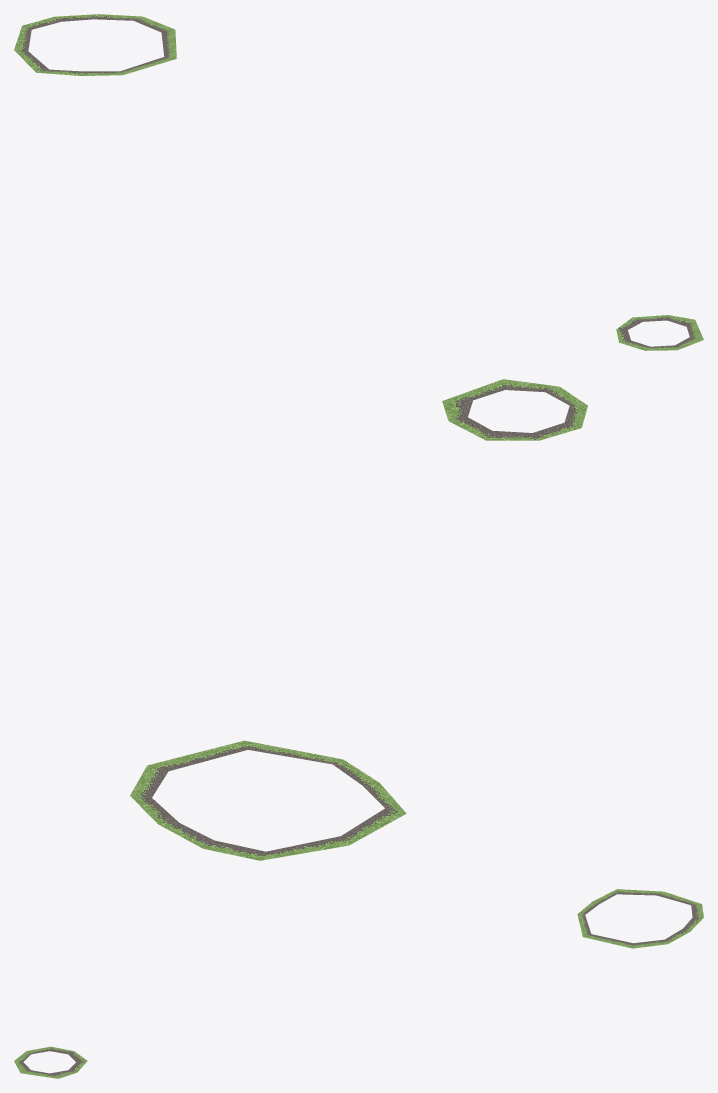
The model's file is kd_stage_135c43_4_144_bounded.glb.
3 renders of one model, top to bottom at view 1: azimuth 30°, elevation 25°; view 2: azimuth 150°, elevation 25°; view 3: azimuth 270°, elevation 25°, orthographic. The views are drawn at different scales.
Visible parts, largest first — view 1: kd_stage_135c43_4_144_bounded; view 2: kd_stage_135c43_4_144_bounded; view 3: kd_stage_135c43_4_144_bounded.
Boxes of the visible parts, x1=… form: kd_stage_135c43_4_144_bounded: x1=14, y1=14, x2=703, y2=350; kd_stage_135c43_4_144_bounded: x1=130, y1=379, x2=587, y2=860; kd_stage_135c43_4_144_bounded: x1=14, y1=889, x2=703, y2=1078.
Size of the model in its own units: 1.15 by 0.2601 by 2.62.
1 material, 1 textured.
